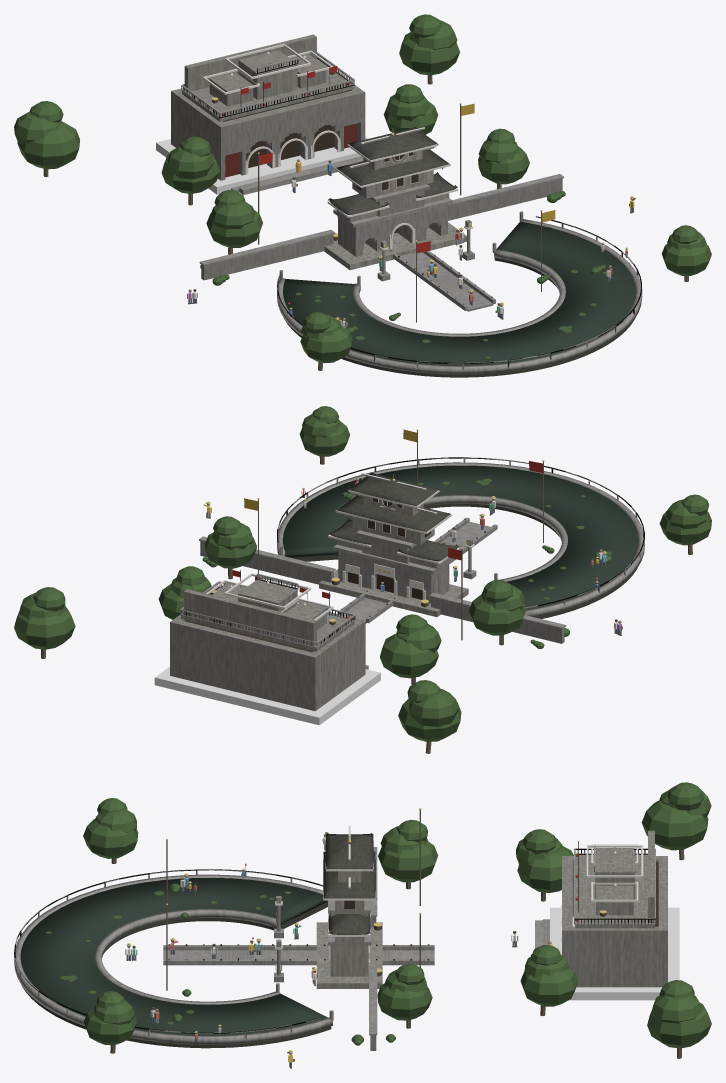
Rendered from den-mau-model.glb.
The picture shows the model from 3 angles, top to bottom: view 1: azimuth 30°, elevation 25°; view 2: azimuth 150°, elevation 25°; view 3: azimuth 270°, elevation 25°; orthographic projection. The views are drawn at different scales.
Visible parts, largest first — view 1: Lotus_Pad_0, Temple_Wall_Back, Lake_Water, Gate_Cornice_Side, Gate_Plinth, Gate_Roof_S2, Gate_S2_WinFrame_F_-1_-1, Temple_Plinth, Gate_Reveal_Main, Lake_Bed, Tree_FL_Trunk, Temple_SideDoor_-1; view 2: Temple_Wall_Back, Lotus_Pad_0, Lake_Water, Gate_Cornice_Side, Gate_Plinth, Gate_Roof_S2, Temple_Plinth, Gate_S2_WinFrame_F_-1_-1, Gate_Reveal_Main, Lake_Bed, Tree_FL_Trunk; view 3: Lotus_Pad_0, Lake_Water, Gate_Cornice_Side, Temple_Wall_Back, Gate_Plinth, Gate_Roof_S2, Temple_Plinth, Gate_S2_WinFrame_F_-1_-1, Lake_Bed, Tree_FL_Trunk.
Boxes of the visible parts, bbox=[...] form: Lotus_Pad_0: bbox=[14, 14, 711, 363]; Temple_Wall_Back: bbox=[171, 34, 562, 280]; Lake_Water: bbox=[283, 221, 636, 365]; Gate_Cornice_Side: bbox=[181, 52, 642, 374]; Gate_Plinth: bbox=[324, 128, 471, 274]; Gate_Roof_S2: bbox=[328, 127, 457, 214]; Gate_S2_WinFrame_F_-1_-1: bbox=[202, 44, 473, 250]; Temple_Plinth: bbox=[156, 136, 368, 194]; Gate_Reveal_Main: bbox=[223, 66, 418, 233]; Lake_Bed: bbox=[284, 257, 634, 377]; Tree_FL_Trunk: bbox=[43, 75, 688, 370]; Temple_SideDoor_-1: bbox=[225, 123, 356, 177]; Temple_Wall_Back: bbox=[170, 541, 564, 711]; Lotus_Pad_0: bbox=[14, 406, 711, 741]; Lake_Water: bbox=[283, 465, 638, 609]; Gate_Cornice_Side: bbox=[180, 457, 644, 669]; Gate_Plinth: bbox=[319, 474, 472, 616]; Gate_Roof_S2: bbox=[328, 472, 459, 561]; Temple_Plinth: bbox=[154, 666, 380, 725]; Gate_S2_WinFrame_F_-1_-1: bbox=[206, 473, 474, 620]; Gate_Reveal_Main: bbox=[184, 498, 430, 652]; Lake_Bed: bbox=[292, 503, 637, 618]; Tree_FL_Trunk: bbox=[41, 431, 692, 753]; Lotus_Pad_0: bbox=[46, 782, 711, 1048]; Lake_Water: bbox=[20, 878, 327, 1035]; Gate_Cornice_Side: bbox=[14, 845, 655, 1044]; Temple_Wall_Back: bbox=[370, 830, 667, 1050]; Gate_Plinth: bbox=[276, 871, 382, 988]; Gate_Roof_S2: bbox=[323, 833, 376, 934]; Temple_Plinth: bbox=[550, 907, 679, 1000]; Gate_S2_WinFrame_F_-1_-1: bbox=[275, 826, 643, 973]; Lake_Bed: bbox=[21, 901, 331, 1048]; Tree_FL_Trunk: bbox=[110, 810, 684, 1058].
Size of the model in its own units: 45.49 by 12.34 by 59.2.
Materials: 38 (4 with a texture image).
